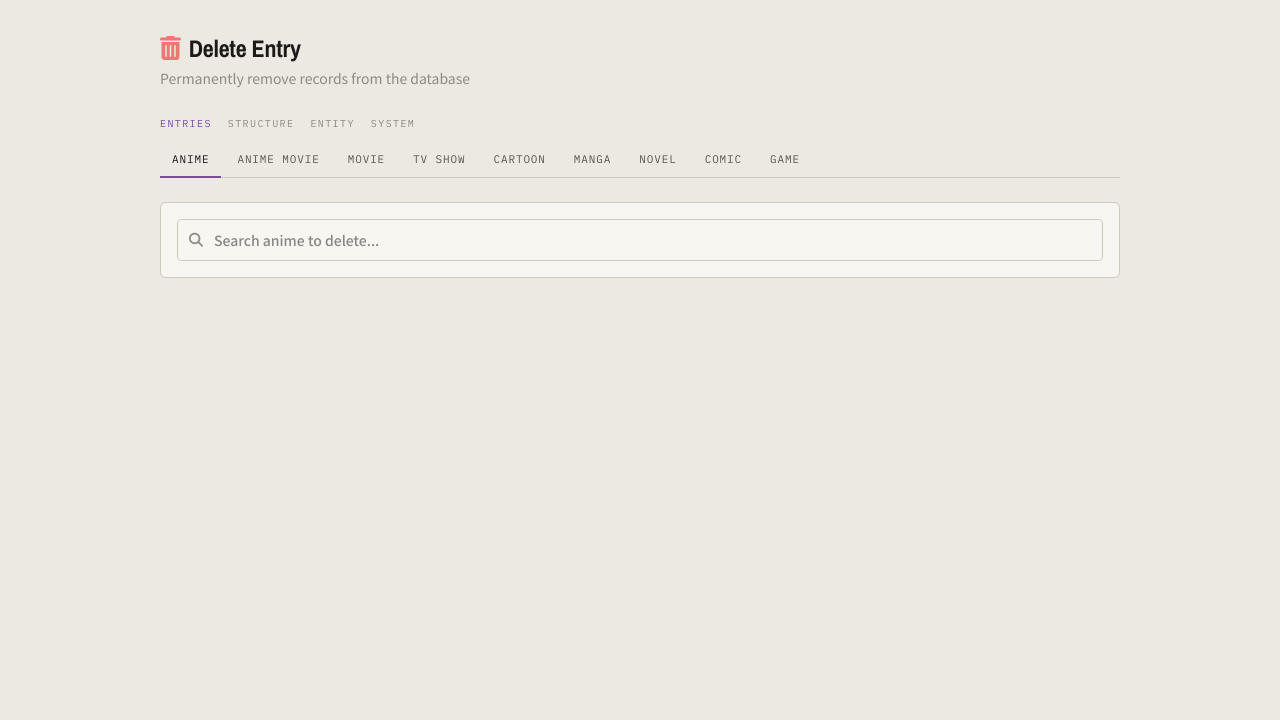
Scenario: Delete page - series tab › deletes nothing when the confirmation is cancelled
Click the button "Structure". click: (261, 124)
box: [228,112,294,135]
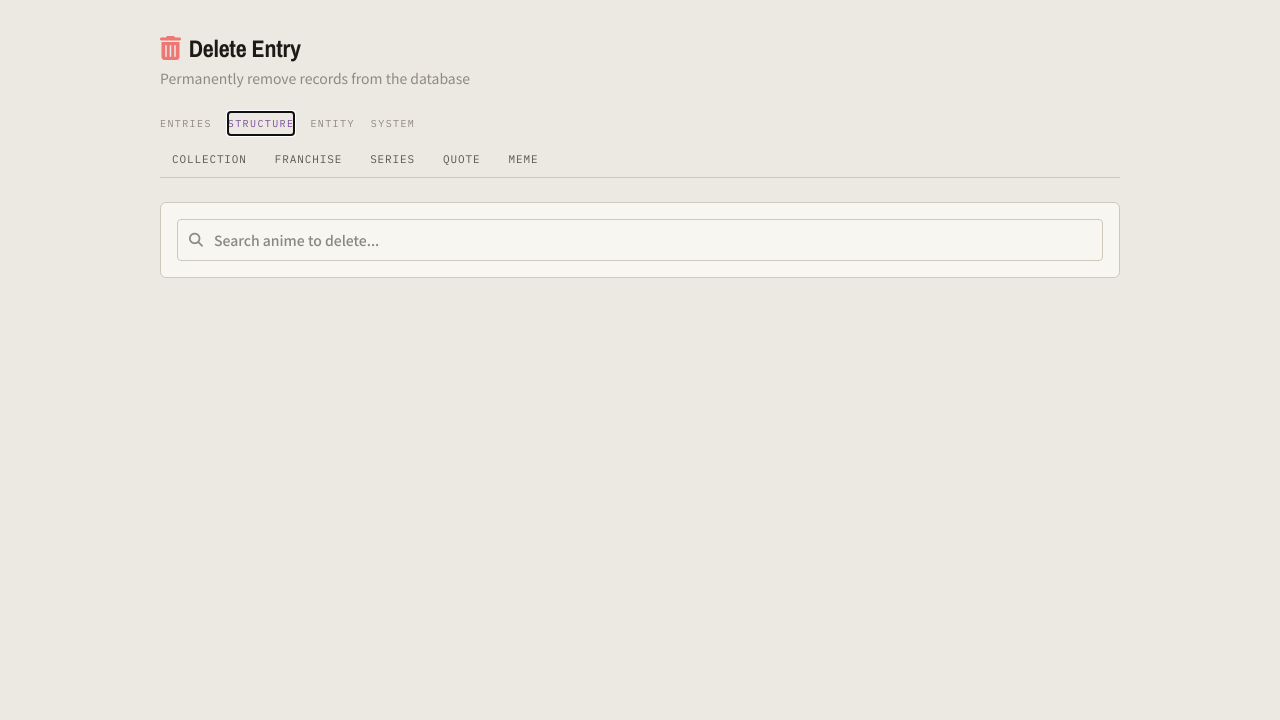
Click the button "Series". click: (393, 160)
box: [358,143,427,178]
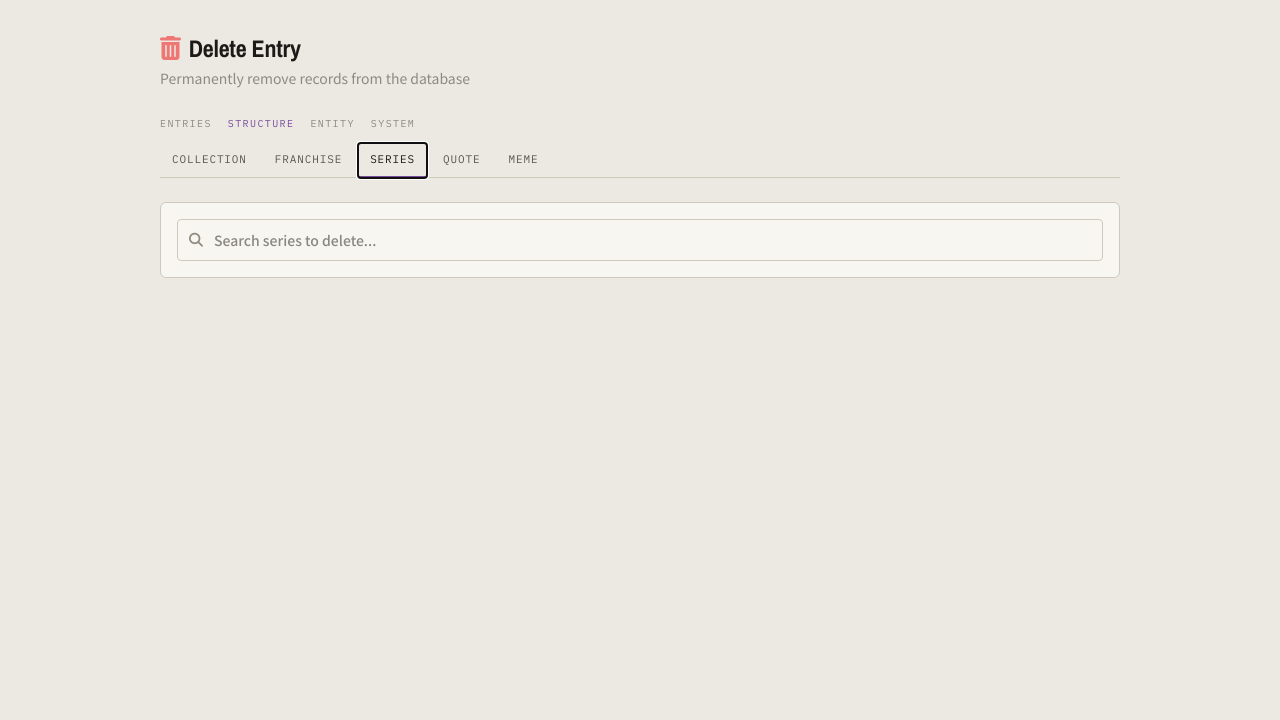
Type "Orac" into the field with placeholder "Search series to delete...". click: (640, 240)
box: [177,218,1103,260]
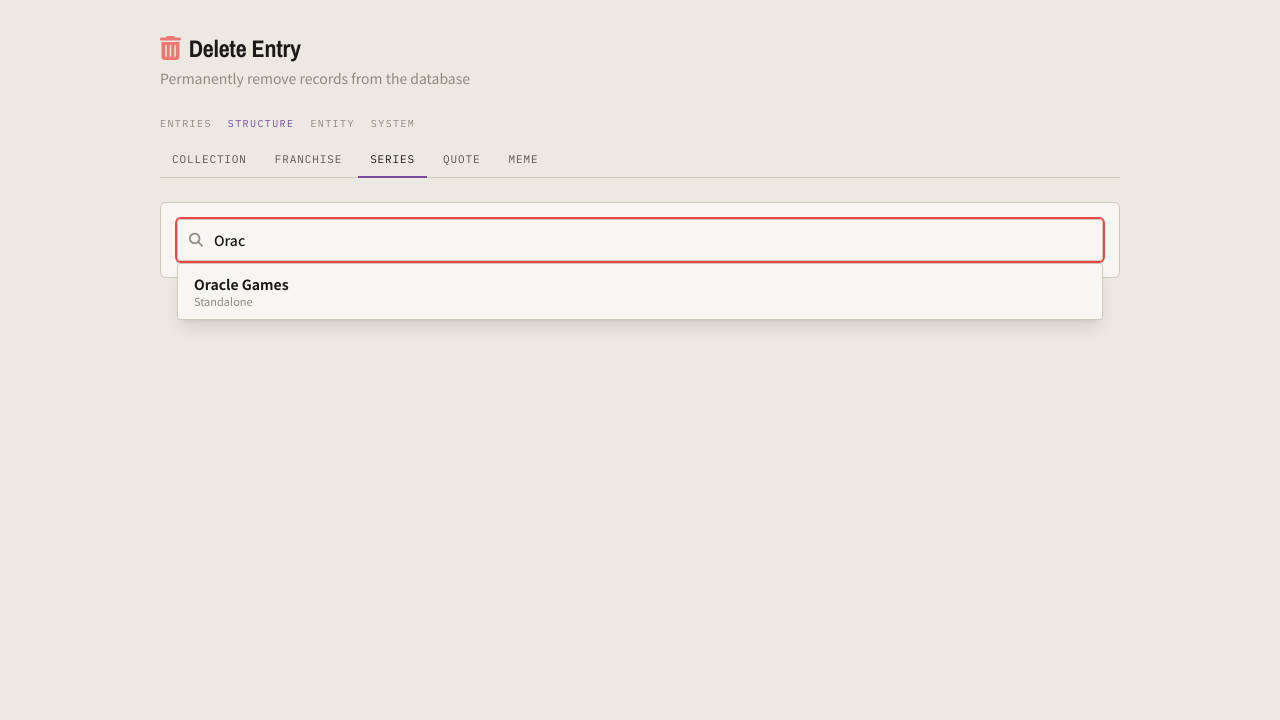
Click the text "Oracle Games". click: (241, 284)
box: [194,274,289,294]
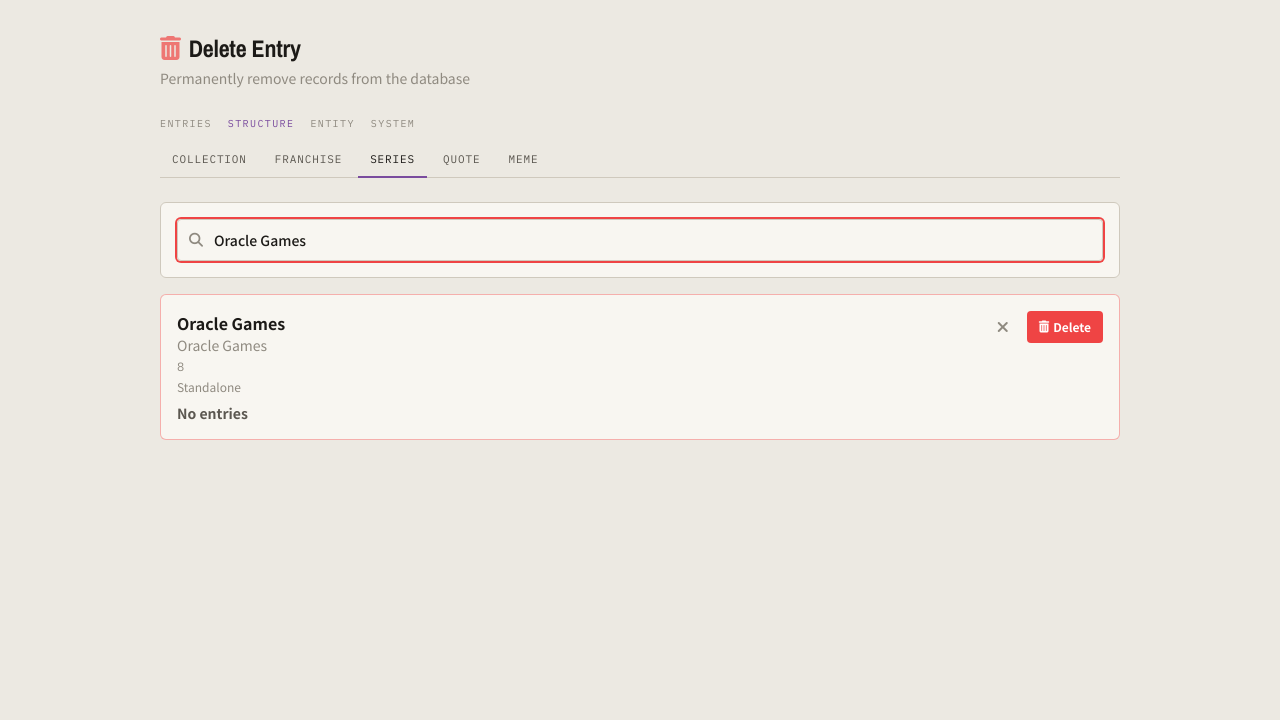
Click the button "Delete". click: (1065, 326)
box: [1027,310,1103,342]
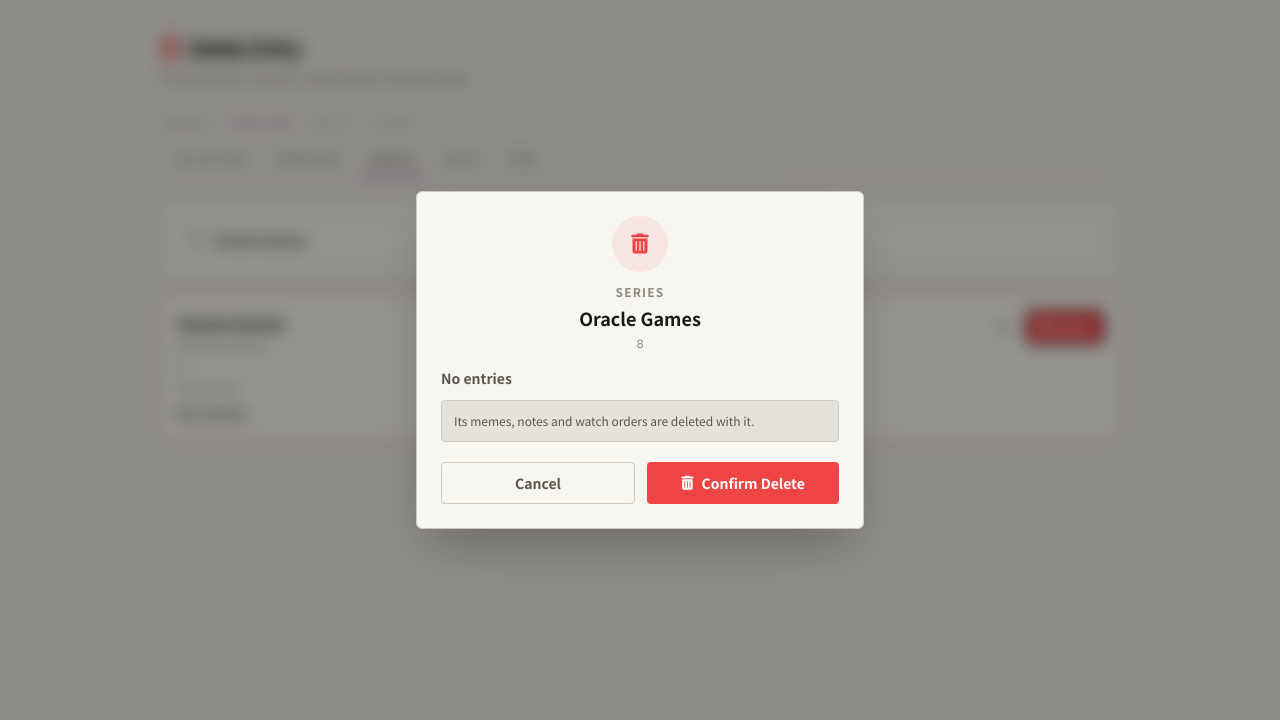
Click the button "Cancel". click: (538, 483)
box: [441,462,635,504]
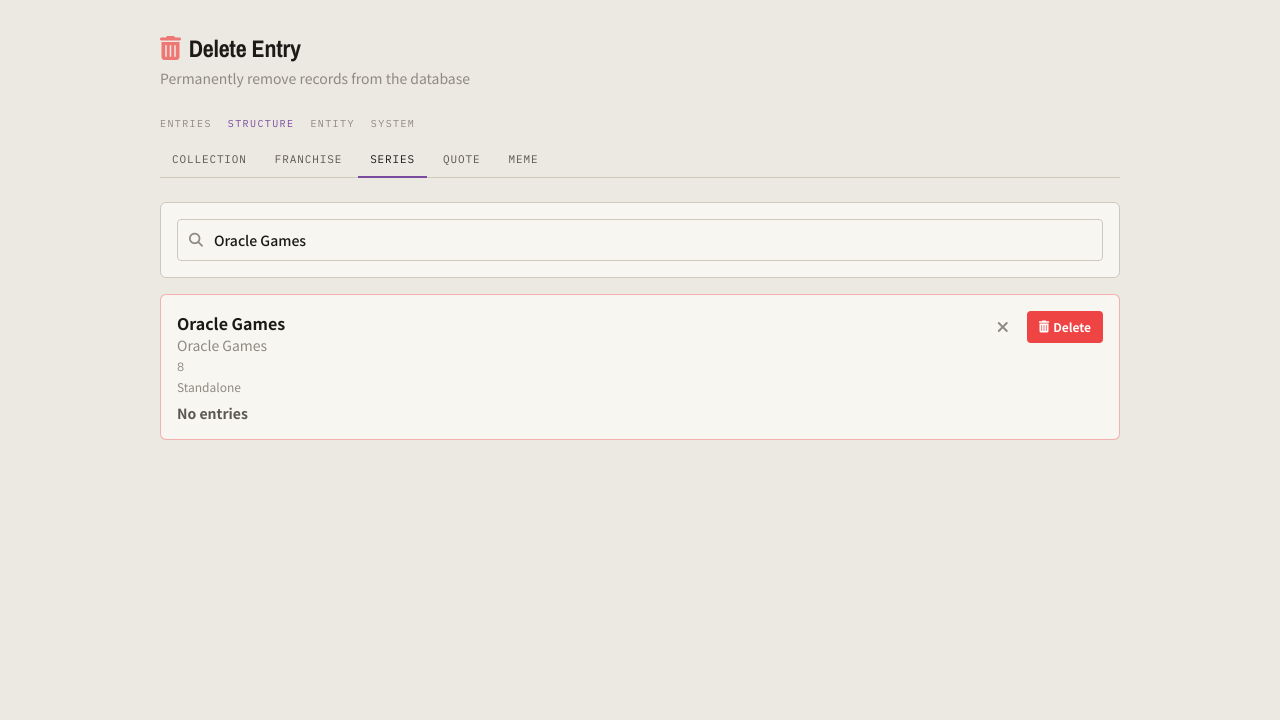
Now the button "Confirm Delete" is gone
